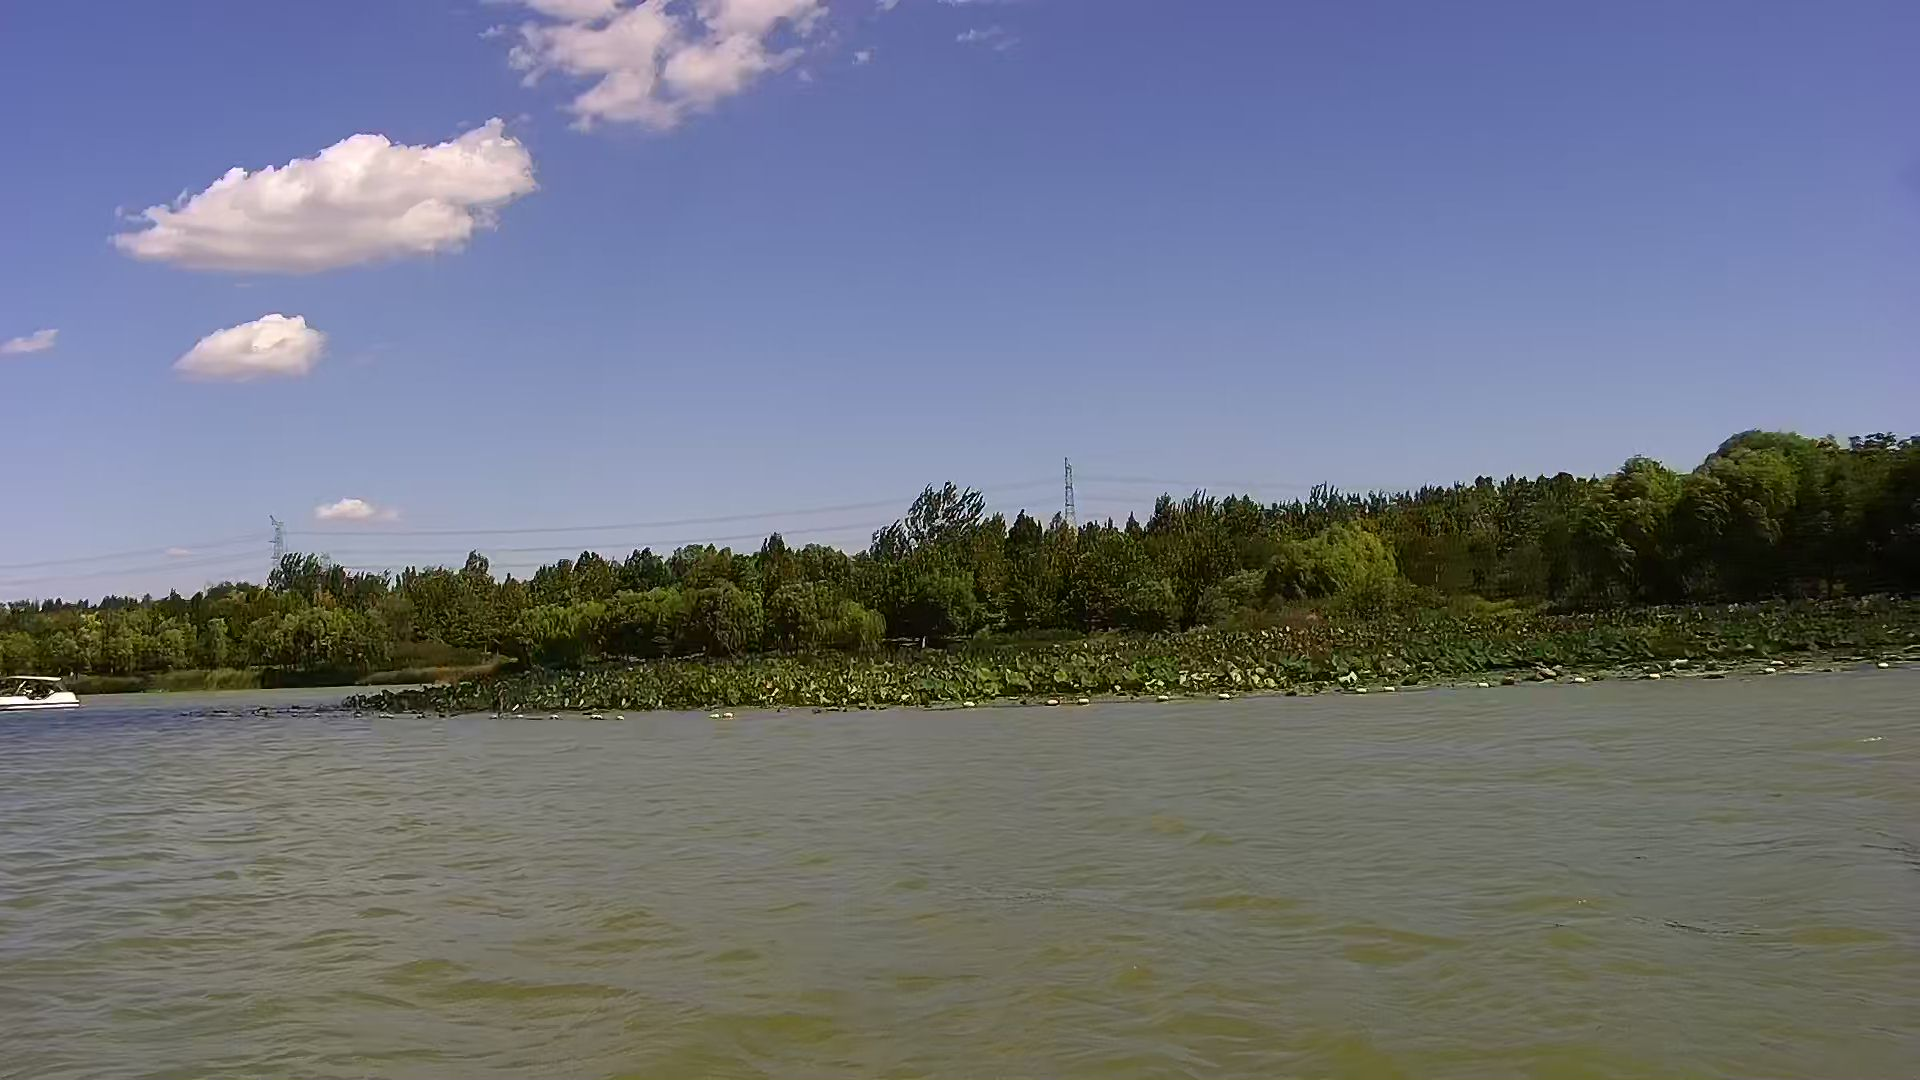boat: (1, 671, 88, 715)
